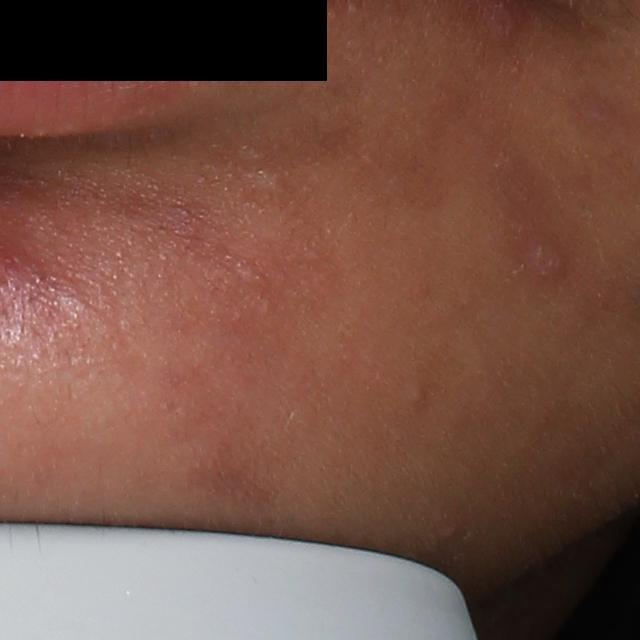papule: (520, 235, 573, 279)
